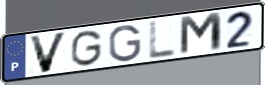2: (222, 8, 256, 52)
G: (107, 24, 143, 64), (69, 28, 104, 68)
L: (147, 19, 179, 61)
M: (178, 10, 225, 57)
V: (27, 31, 70, 75)
